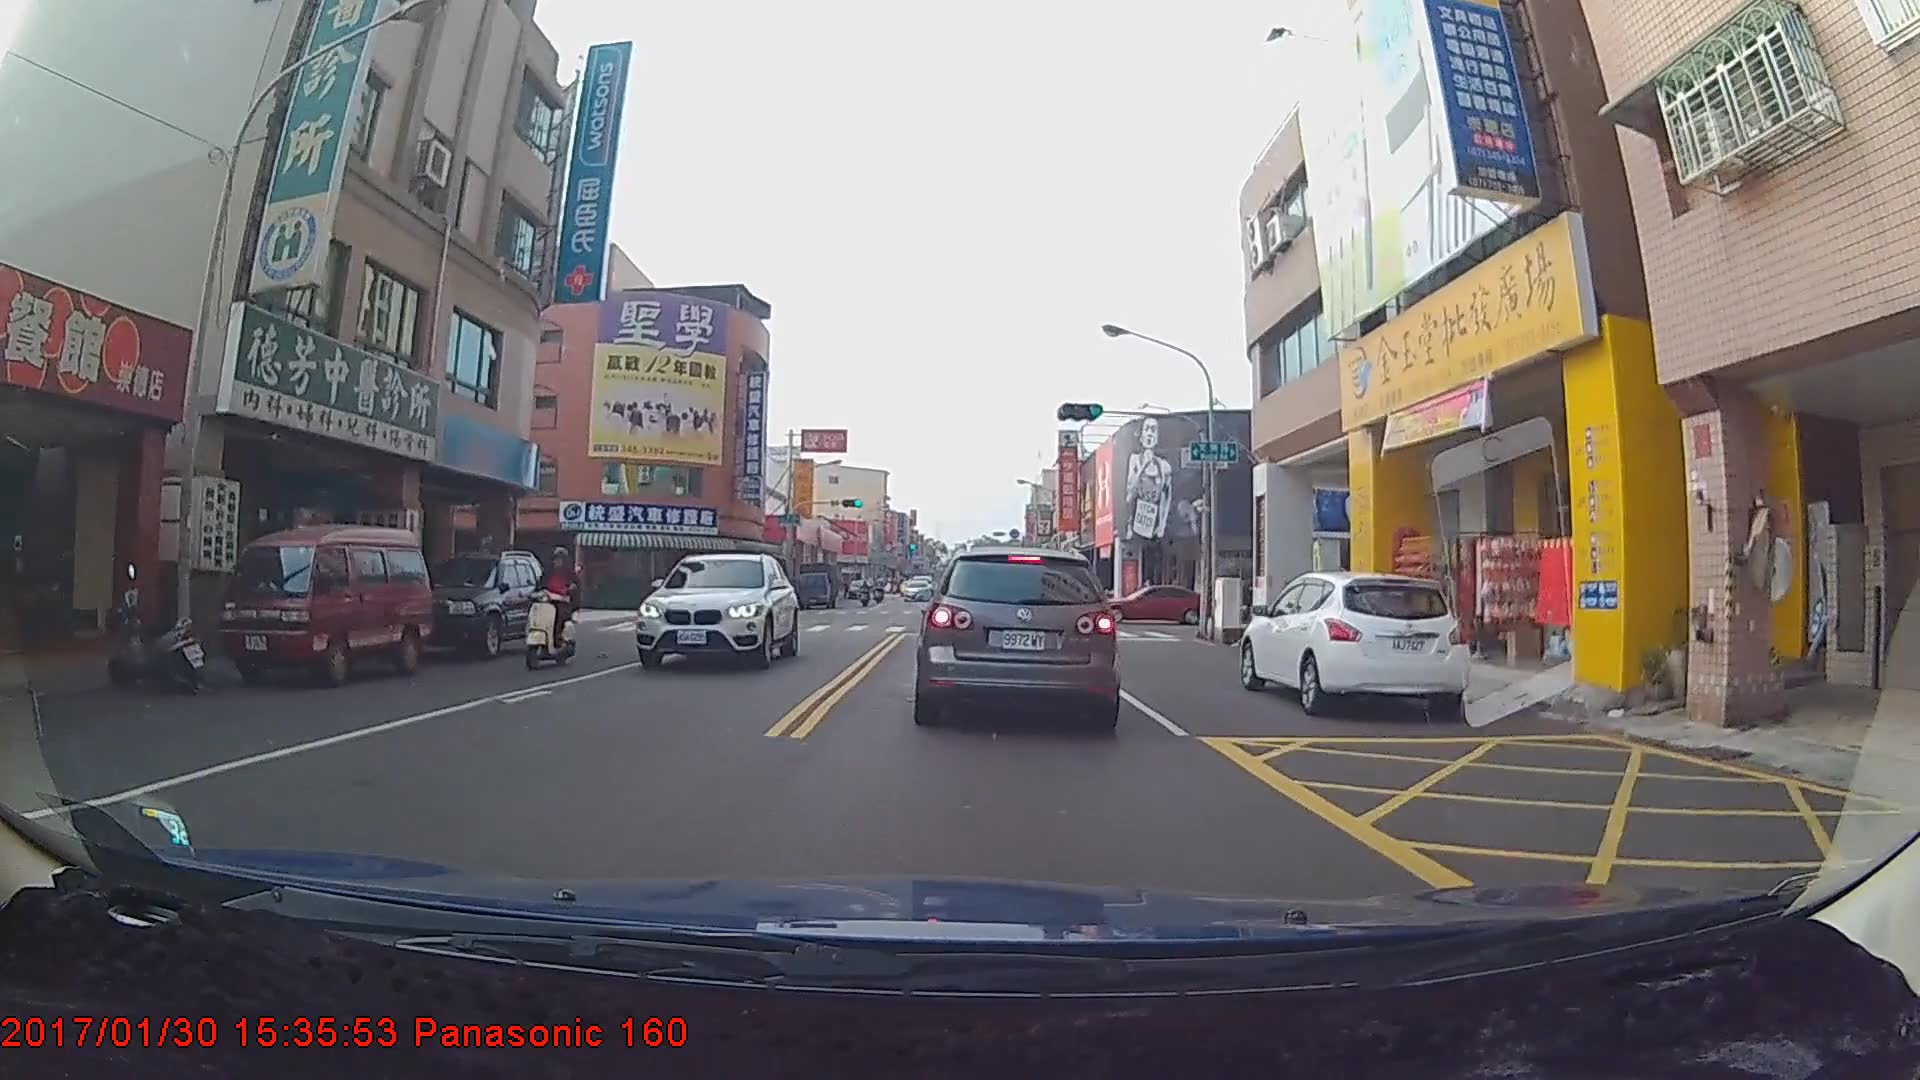rider: (513, 545, 579, 677), (847, 576, 867, 605)
vehicle: (918, 544, 1117, 727), (1237, 568, 1466, 722), (220, 529, 431, 685), (632, 550, 798, 670), (389, 549, 553, 663), (1096, 579, 1205, 620), (788, 557, 840, 606), (901, 577, 931, 599)
